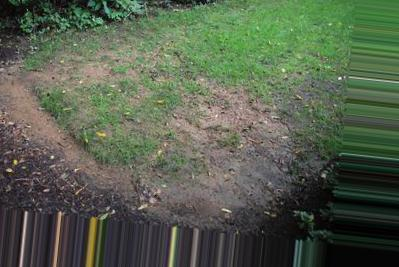patch: (170, 173, 234, 219), (184, 123, 245, 167), (80, 154, 142, 192), (198, 83, 247, 115), (21, 94, 51, 141), (62, 59, 115, 75), (157, 93, 179, 131), (119, 40, 154, 59), (121, 68, 154, 85)
